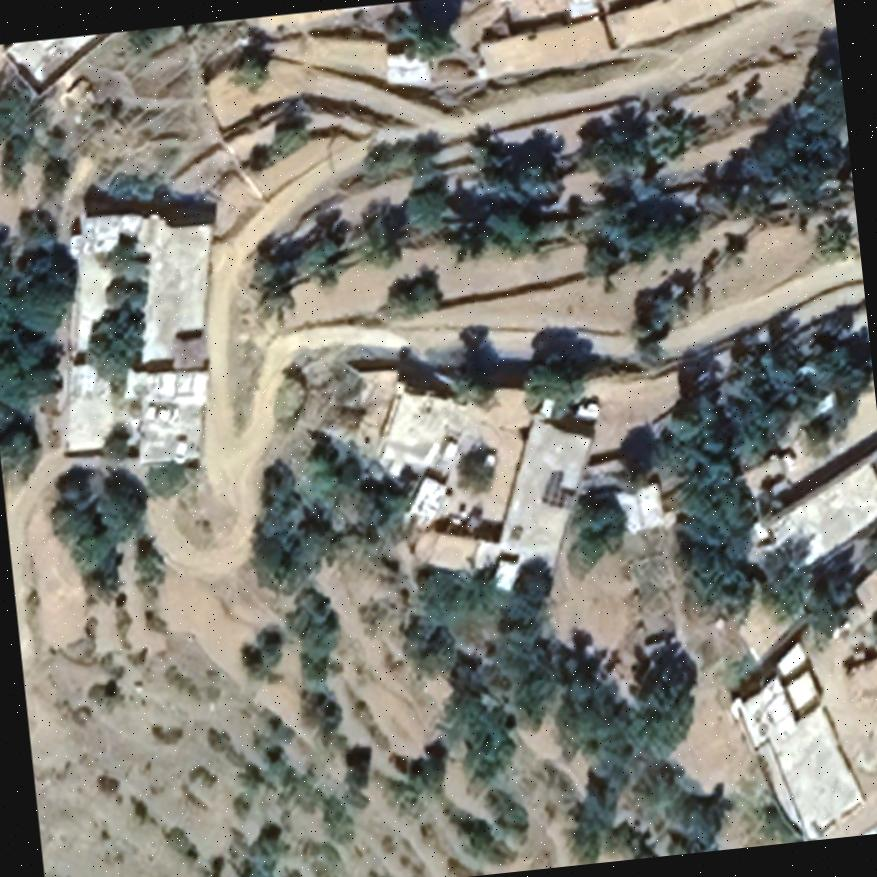Solarpanel: (537, 466, 571, 511)
